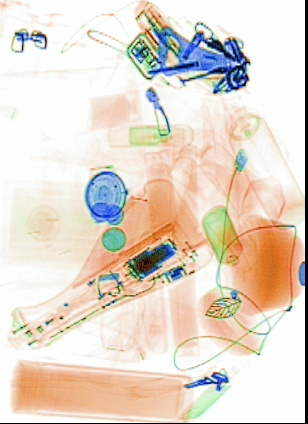pressure: (226, 102, 303, 231)
